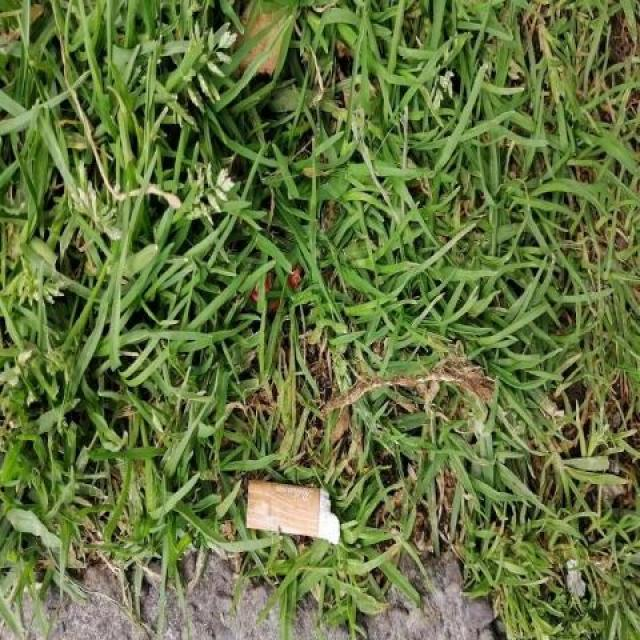non-organic waste: (246, 475, 346, 548)
